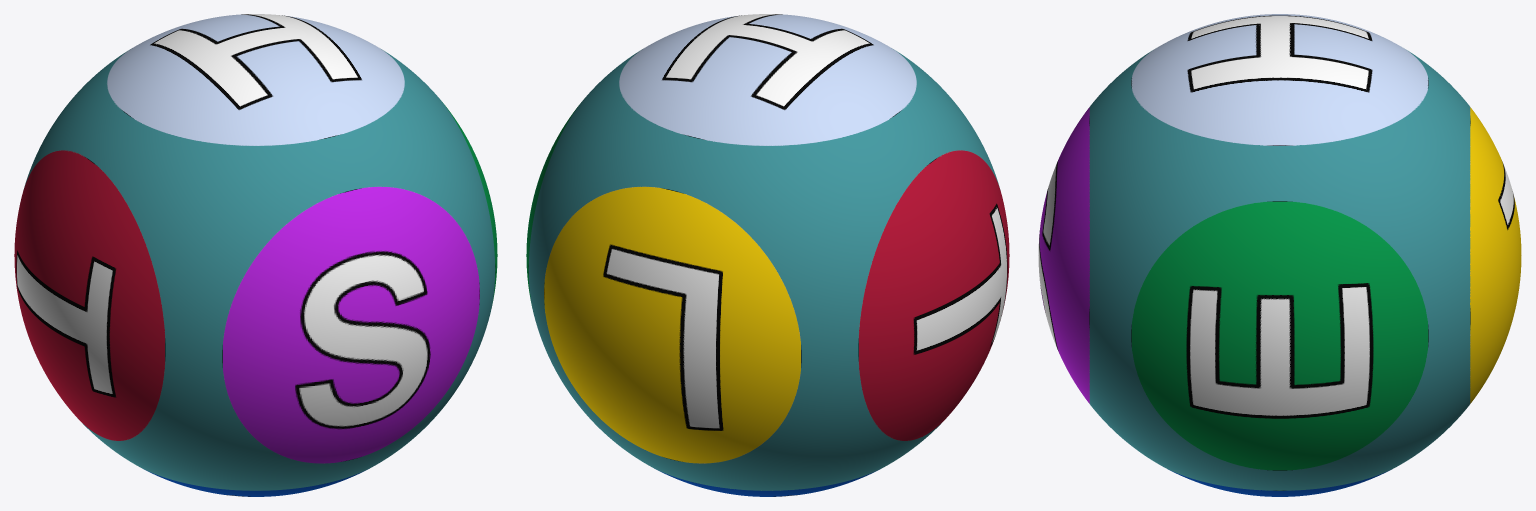
File: RSLSphere65.glb
3 views of the same model, side by side, from view 1: azimuth 30°, elevation 25°; view 2: azimuth 150°, elevation 25°; view 3: azimuth 270°, elevation 25° (orthographic).
Visible parts, largest first — view 1: RSLSphere65; view 2: RSLSphere65; view 3: RSLSphere65.
Boxes of the visible parts, x1,y1,x2,y2 form: RSLSphere65: [14, 14, 497, 496]; RSLSphere65: [526, 14, 1009, 496]; RSLSphere65: [1038, 14, 1521, 496].
Size of the model in its own units: 0.065 by 0.065 by 0.065.
6 materials, 6 textured.
